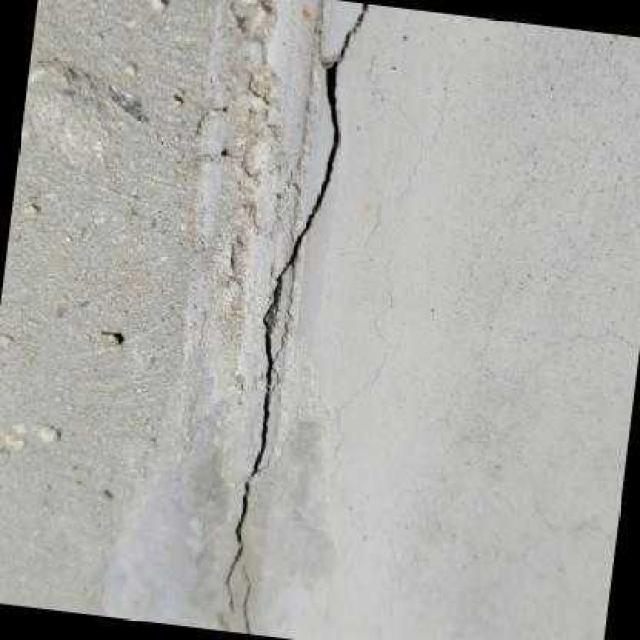D00: (223, 3, 371, 616), (240, 561, 252, 634)
